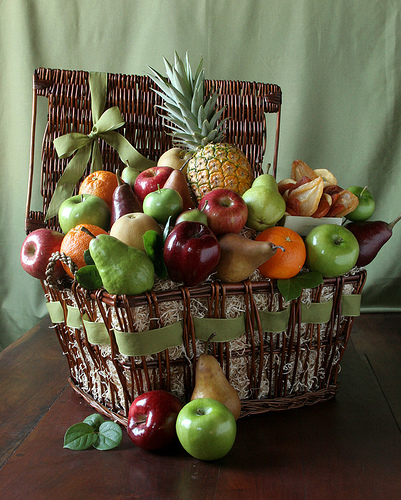pineapple: (149, 52, 254, 192)
